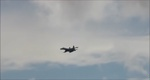maybay_muctieu: (56, 44, 79, 56)
